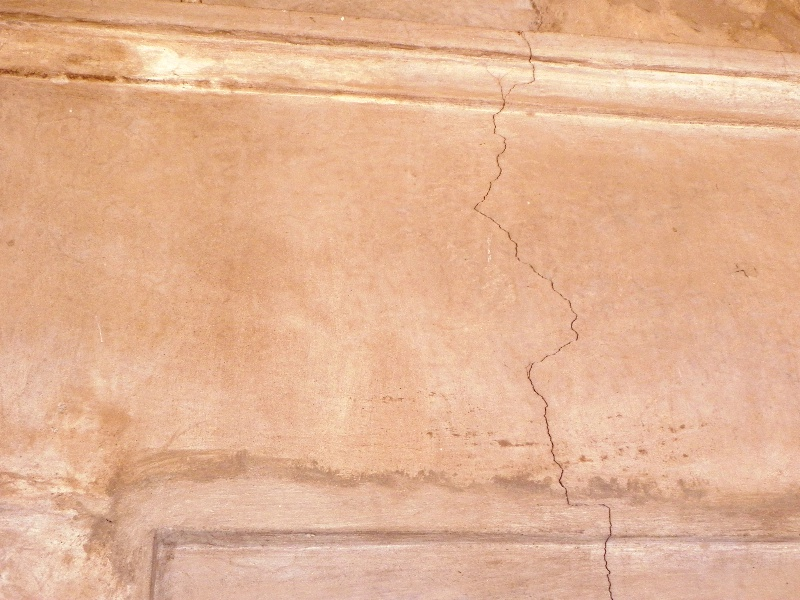Crack: (449, 33, 621, 600)
